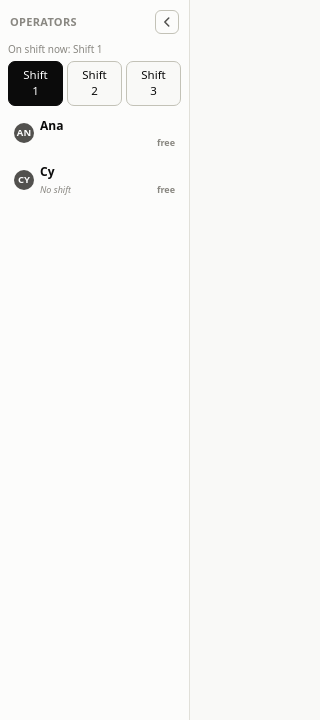
Test case: OperatorPanel: the shift chips and the shift-based default list (S66-c, R-448) › SC-7: toggling Shift 2 in brings Ben into the list too, without hiding Ana or Cy
The width and height of the screenshot is (320, 720).
What coordinates should you click on to do the following:
click the button "Shift 2"
I would click on:
 (94, 83)
Its box is [67,60,122,106].
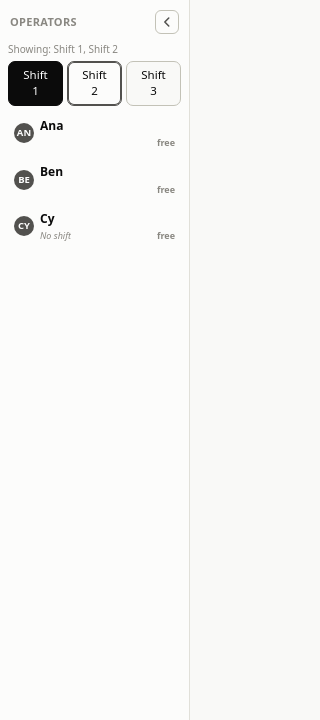
Expected: the text "Ana" is shown, [40,117,63,134]
Now the text "Ben" is shown, box [40,163,63,180]
